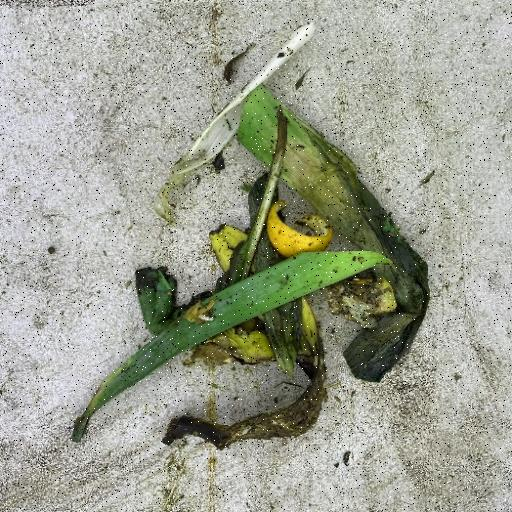Waste: (69, 22, 431, 450)
